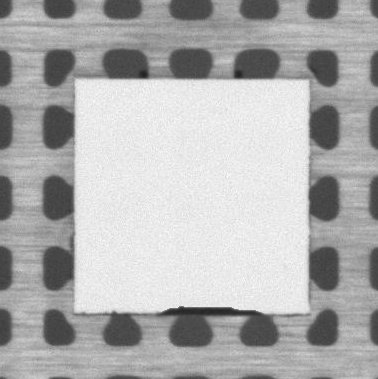DIE_BROKEN: (154, 304, 265, 317)
